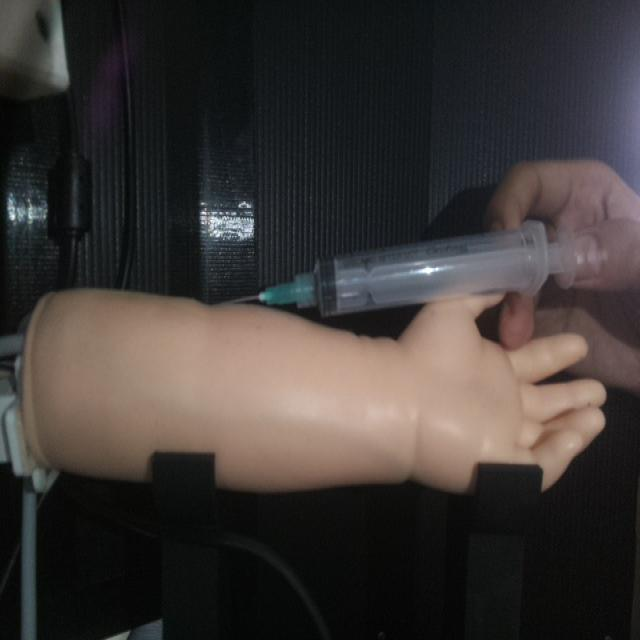Outside: (213, 212, 580, 318)
